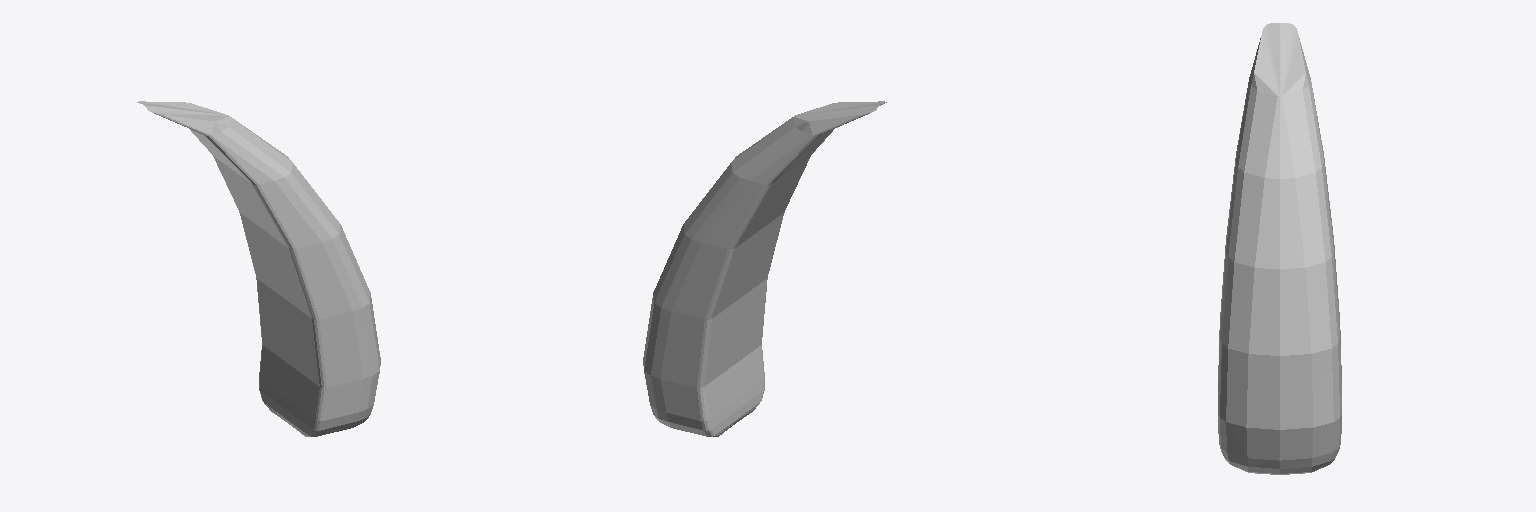
The model's file is character_duckArmLeft.obj.
The picture shows the model from 3 angles: view 1: azimuth 30°, elevation 25°; view 2: azimuth 150°, elevation 25°; view 3: azimuth 270°, elevation 25°; orthographic projection.
Parts seen in each view (by area): view 1: character_duckArmLeft_Cube.5105; view 2: character_duckArmLeft_Cube.5105; view 3: character_duckArmLeft_Cube.5105.
Boxes of the visible parts, x1=… form: character_duckArmLeft_Cube.5105: x1=137, y1=101, x2=380, y2=436; character_duckArmLeft_Cube.5105: x1=643, y1=101, x2=886, y2=436; character_duckArmLeft_Cube.5105: x1=1218, y1=23, x2=1341, y2=474.
Bounding box in the file's own units: 0.3802 × 0.5708 × 0.1812.